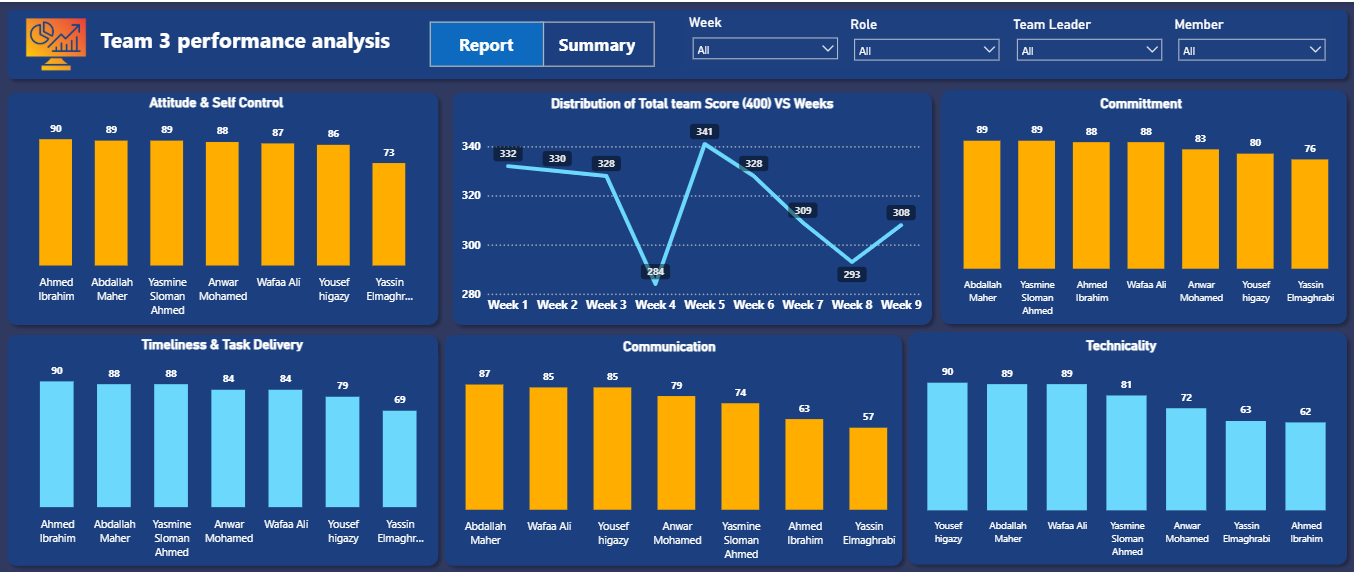

What the dashboard file says about the page in this screenshot:
{"tool":"powerbi","page":{"name":"Summary","canvas":[1700,720],"ordinal":0},"visuals":[{"type":"shape","box":[0,0,1700.3,105.9],"z":0},{"type":"shape","box":[1172.5,102,527.5,311.8],"z":1000},{"type":"columnChart","title":"Committment","fields":{"Category":["full intern.Name "],"Y":["Sum(full intern.Commitment(/10))"]},"box":[1163.4,116.9,537.4,284.7],"z":2000},{"type":"shape","box":[1131.3,405.9,568.7,309.9],"z":3000},{"type":"shape","box":[0,407.9,558.9,307.9],"z":4000},{"type":"shape","box":[549.1,407.9,592.3,307.9],"z":5000},{"type":"columnChart","title":"   Communication","fields":{"Category":["full intern.Name "],"Y":["Sum(full intern.Communication)"]},"box":[527.4,423.6,624.8,285.6],"z":6000},{"type":"columnChart","title":"Technicality","fields":{"Y":["Sum(full intern.Technical (/10))"],"Category":["full intern.Name "]},"box":[1114.9,421.9,585.8,284],"z":7000},{"type":"shape","box":[558.9,103.9,619.7,309.9],"z":8000},{"type":"image","box":[20.5,3.2,97.9,99.5],"z":9000},{"type":"textbox","box":[121.1,24.2,389.5,67.1],"z":10000},{"type":"slicer","title":"Member","fields":{"Values":["full intern.Name "]},"box":[1468.9,17.6,204,66.7],"z":11000},{"type":"actionButton","box":[678.8,24.5,143.3,56.6],"z":12000},{"type":"actionButton","box":[539.3,24.5,143.3,56.6],"z":13000},{"type":"lineChart","title":"Distribution of Total team Score (400) VS Weeks","fields":{"Category":["full intern.Week"],"Y":["Sum(full intern.Total (/50))"]},"box":[572.9,118.5,590.7,282.4],"z":14000},{"type":"slicer","title":"Team Leader","fields":{"Values":["full intern.Team Leader"]},"box":[1265.8,17.6,202,66.7],"z":15000},{"type":"slicer","title":"Role","fields":{"Values":["full intern.Role"]},"box":[1062.7,17.6,202,66.7],"z":16000},{"type":"columnChart","title":"Timeliness & Task Delivery","fields":{"Category":["full intern.Name "],"Y":["Sum(full intern.Timeliness & task delivery (/10))"]},"box":[0,420.3,558.2,285.6],"z":17000},{"type":"shape","box":[0,103.9,558.9,309.9],"z":18000},{"type":"columnChart","title":"Attitude & Self Control","fields":{"Category":["full intern.Name "],"Y":["Sum(full intern.Attitude & self control(/10))"]},"box":[0,115.7,543.2,286.3],"z":19000},{"type":"slicer","title":"Week","fields":{"Values":["full intern.Week"]},"box":[859.8,17,201.8,66],"z":20000}]}

Visuals, with their boxes in screenshot pixels (x1, y1, x2, y2), scaled from the page's 1700x720 canvas onto the 1354x572 screenshot:
shape: 0/0/1353/84
shape: 934/81/1353/329
"Committment" columnChart: 927/93/1353/319
shape: 901/322/1353/569
shape: 0/324/445/569
shape: 437/324/909/569
"   Communication" columnChart: 420/337/918/563
"Technicality" columnChart: 888/335/1353/561
shape: 445/83/939/329
image: 16/3/94/82
textbox: 96/19/407/73
"Member" slicer: 1170/14/1332/67
actionButton: 541/19/655/64
actionButton: 430/19/544/64
"Distribution of Total team Score (400) VS Weeks" lineChart: 456/94/927/318
"Team Leader" slicer: 1008/14/1169/67
"Role" slicer: 846/14/1007/67
"Timeliness & Task Delivery" columnChart: 0/334/445/561
shape: 0/83/445/329
"Attitude & Self Control" columnChart: 0/92/433/319
"Week" slicer: 685/14/846/66
